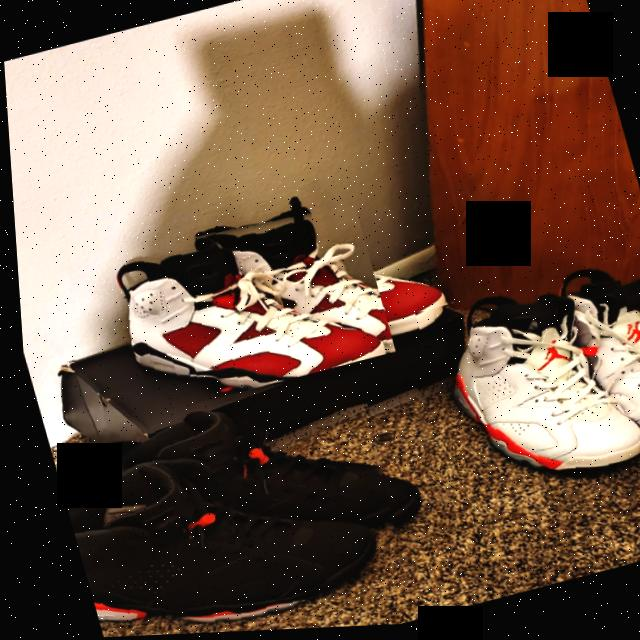shoe: (76, 351, 456, 619), (50, 404, 415, 639), (85, 192, 397, 435), (171, 161, 463, 397), (408, 265, 640, 532)
